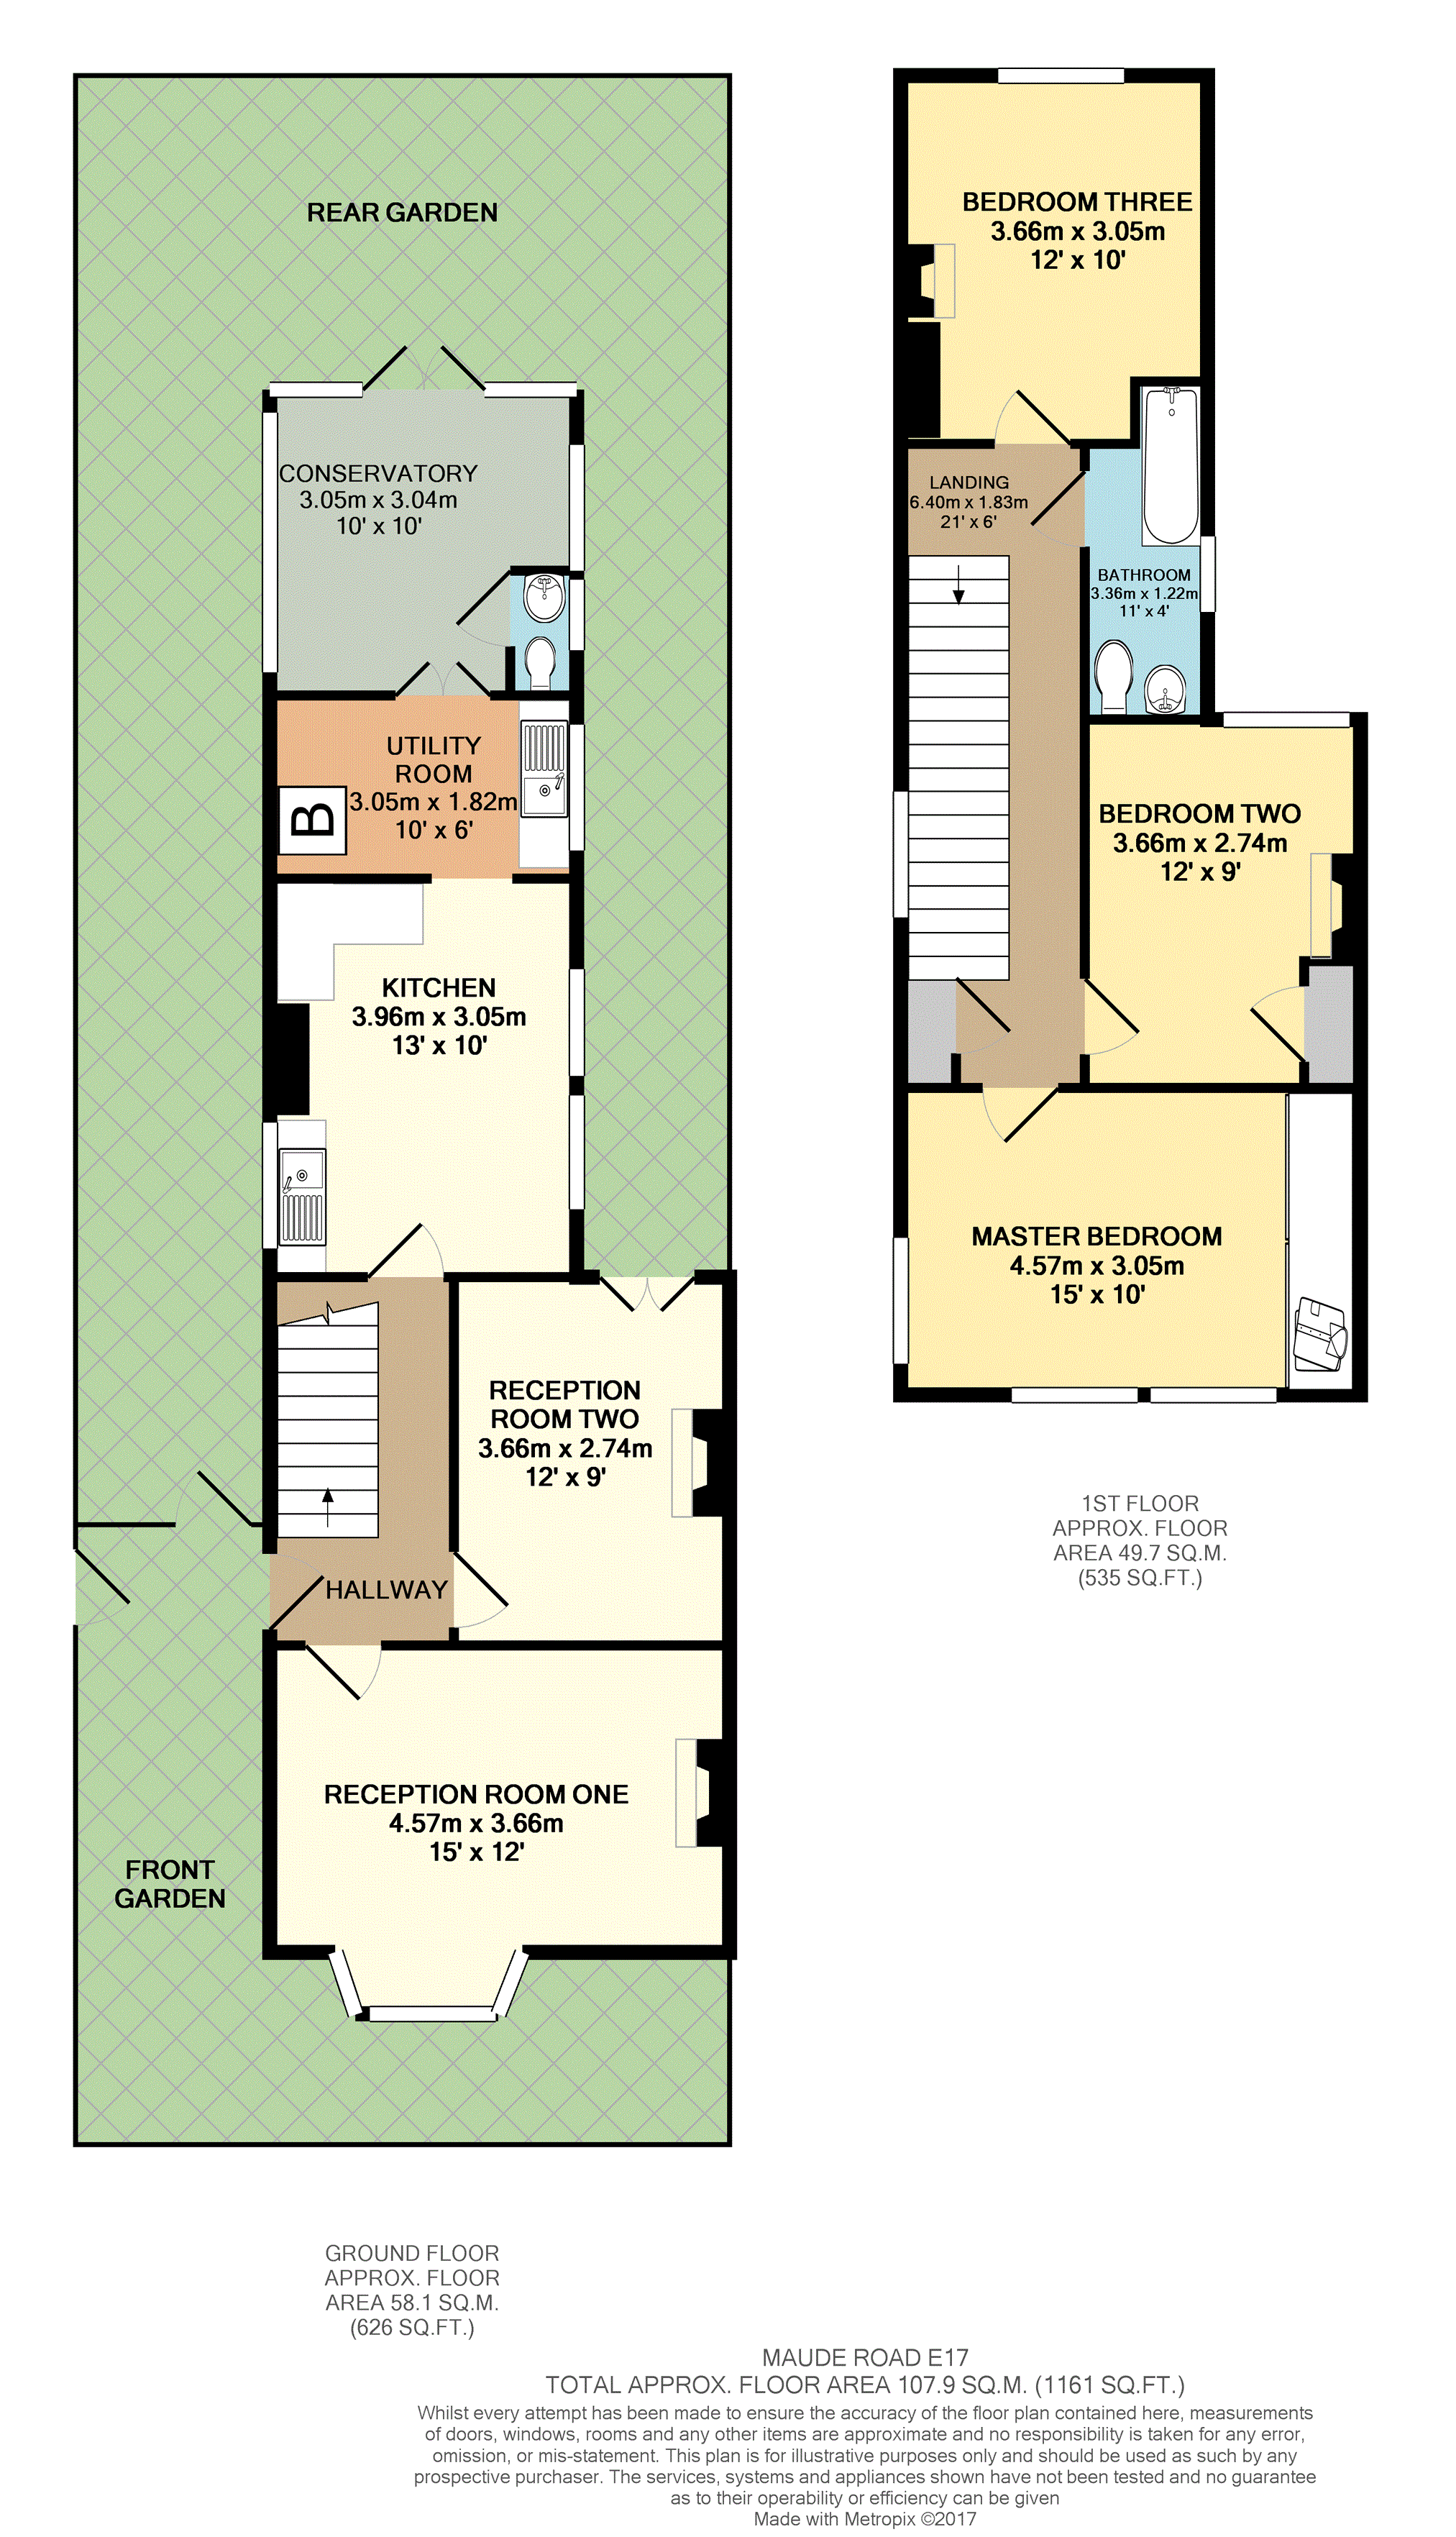door: (361, 343, 482, 401), (1078, 979, 1148, 1056), (446, 573, 516, 650), (367, 1218, 444, 1286), (1242, 986, 1310, 1063), (994, 383, 1071, 450), (449, 1553, 512, 1633), (597, 1272, 695, 1323), (303, 1641, 380, 1704), (981, 1086, 1057, 1148), (395, 655, 489, 704)
